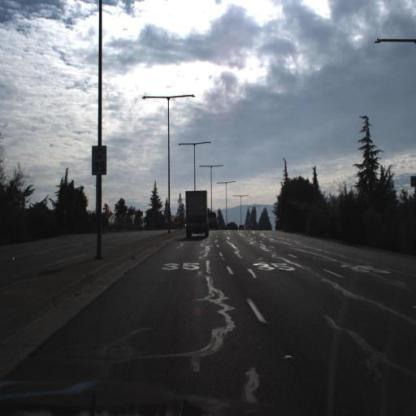car: (208, 212, 221, 232), (239, 222, 246, 233)
truck: (185, 188, 209, 237)
